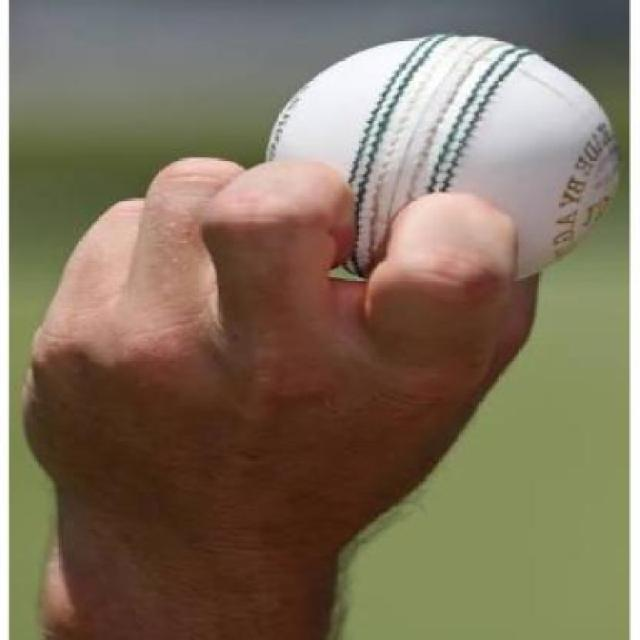ball: (254, 3, 626, 298)
